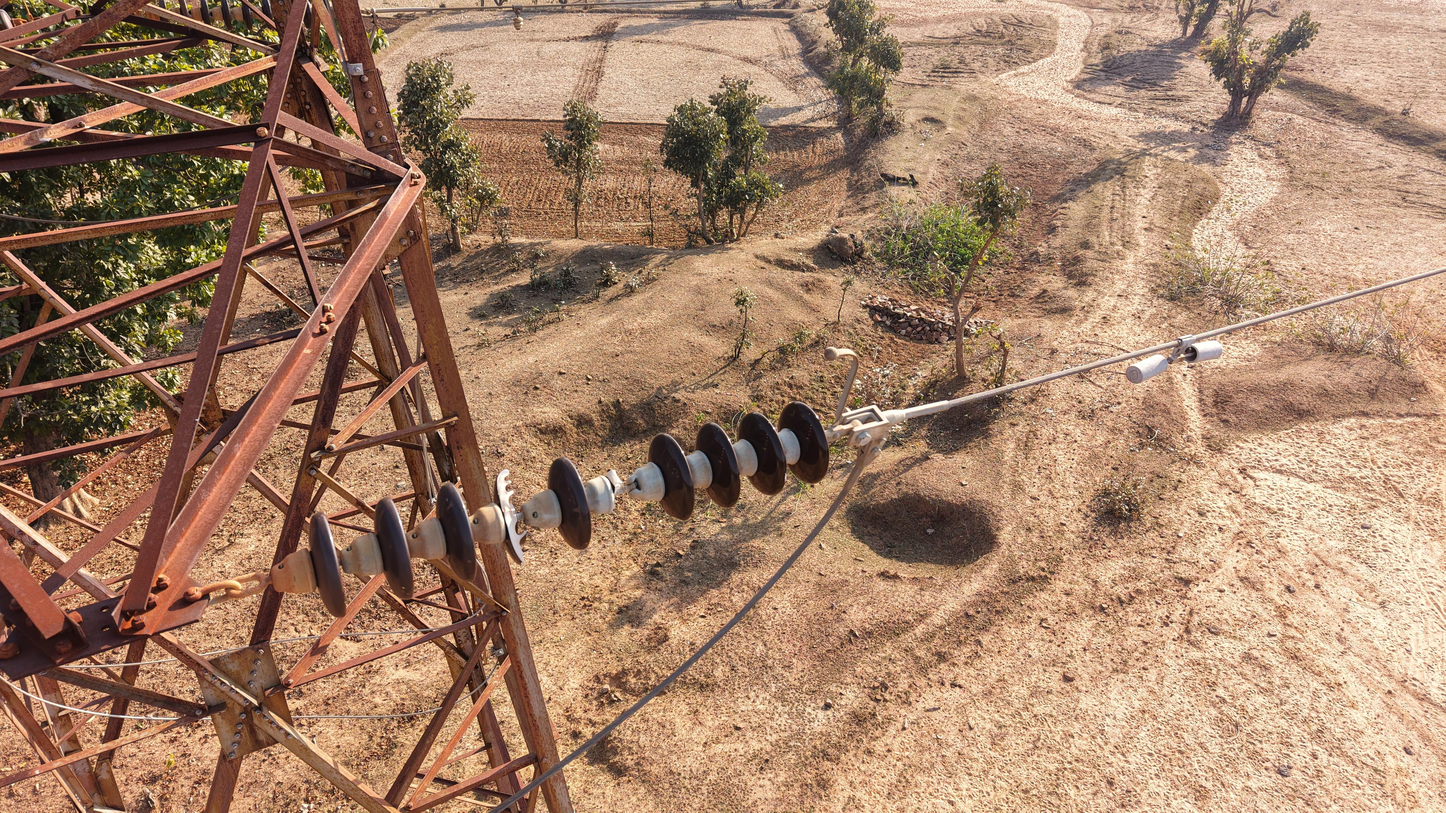broken_insulator: (483, 464, 536, 578)
